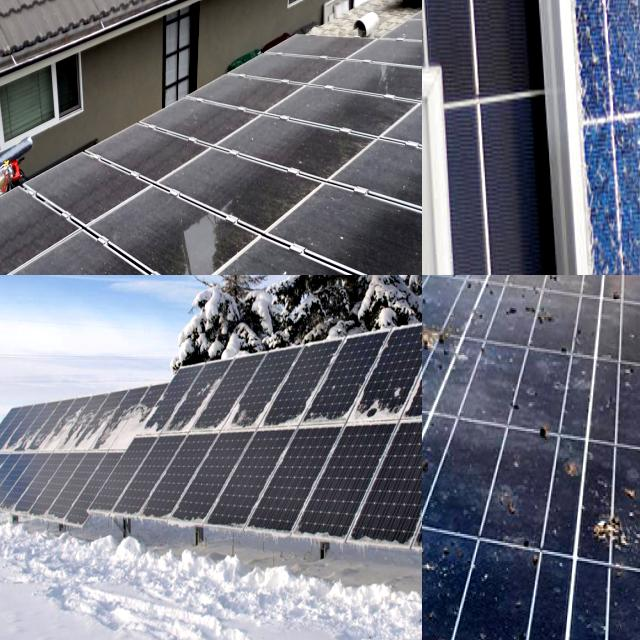bird: (422, 533, 474, 605), (580, 504, 640, 561), (495, 300, 571, 336), (422, 486, 445, 584), (558, 438, 598, 491), (422, 313, 458, 371), (422, 581, 455, 640), (422, 410, 451, 469), (422, 359, 449, 414), (440, 275, 496, 298), (529, 409, 556, 449), (422, 613, 452, 640), (553, 275, 601, 290), (422, 495, 435, 549), (422, 301, 442, 335), (422, 275, 444, 301), (422, 275, 450, 293), (543, 275, 588, 284), (422, 275, 436, 295), (422, 353, 431, 382), (422, 275, 432, 296), (422, 275, 439, 284)
dust: (306, 59, 422, 207), (93, 143, 250, 223), (0, 208, 103, 275), (257, 248, 386, 275), (0, 229, 28, 275)
panel: (206, 366, 256, 444), (259, 384, 332, 434), (349, 373, 407, 426), (14, 402, 70, 454), (80, 396, 130, 454), (139, 395, 201, 434), (0, 459, 19, 512)
